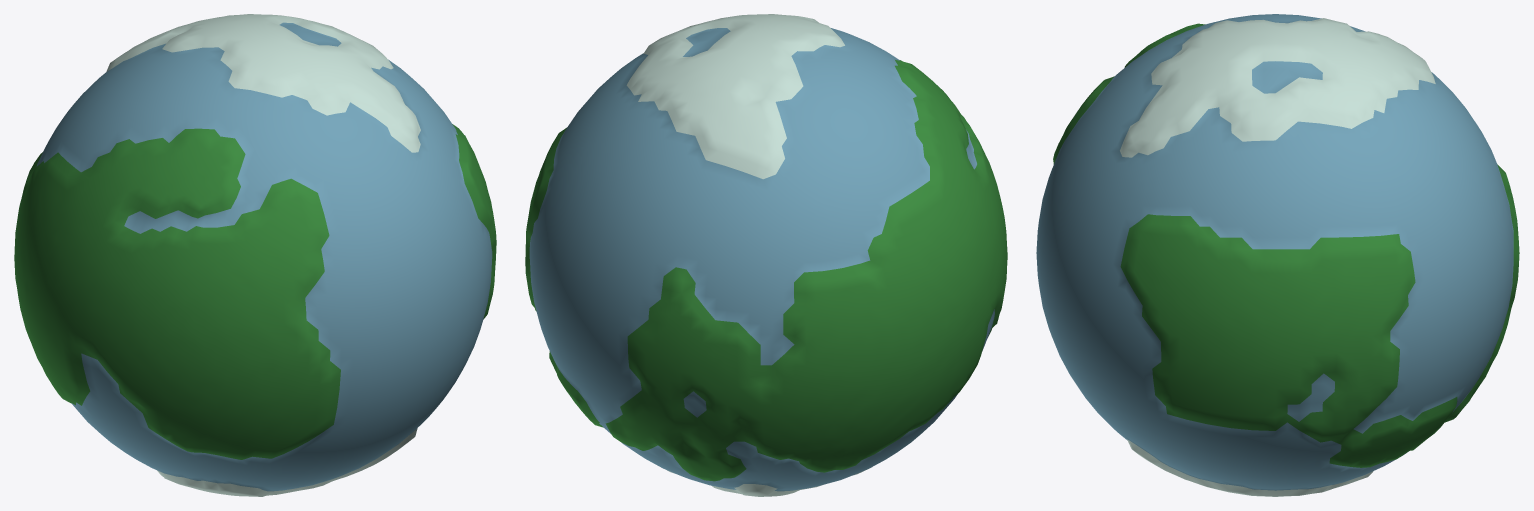
File: planet.fbx
3 renders of one model, left to right at view 1: azimuth 30°, elevation 25°; view 2: azimuth 150°, elevation 25°; view 3: azimuth 270°, elevation 25°, orthographic.
Parts seen in each view (by area): view 1: Planet; view 2: Planet; view 3: Planet.
Boxes of the visible parts, x1,y1,x2,y2 form: Planet: (14, 14, 496, 496); Planet: (525, 14, 1007, 496); Planet: (1036, 14, 1519, 496).
Size of the model in its own units: 27120 by 27110 by 26849.
